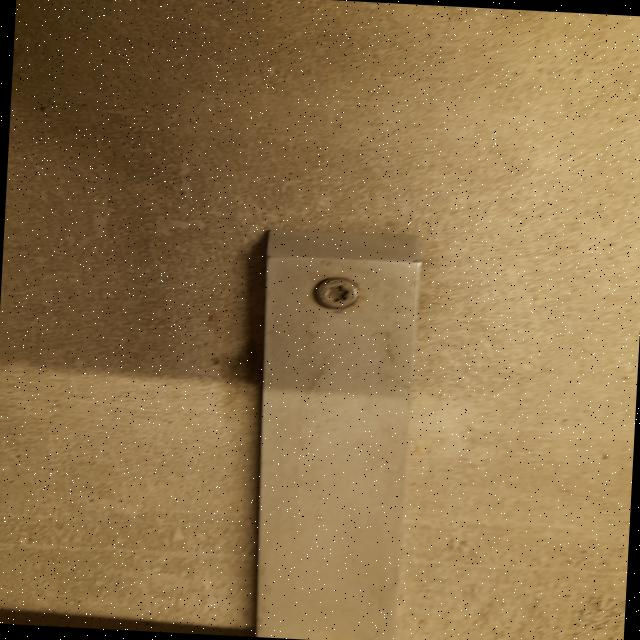Torx: (310, 276, 366, 314)
